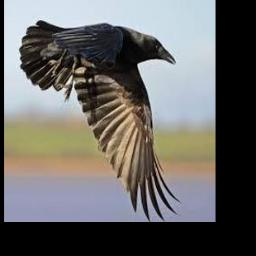Crow: (19, 21, 181, 221)
